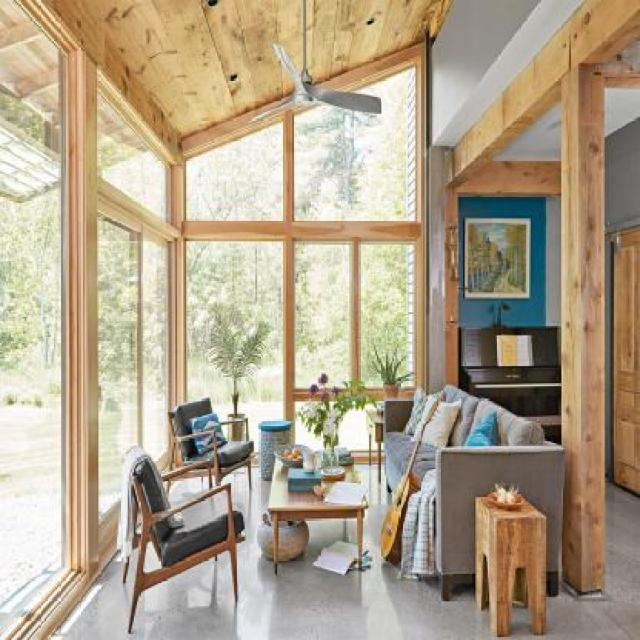Floor: (49, 463, 640, 640), (143, 541, 162, 573)
